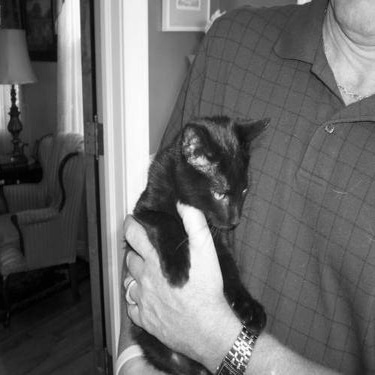cat: (117, 115, 268, 372)
